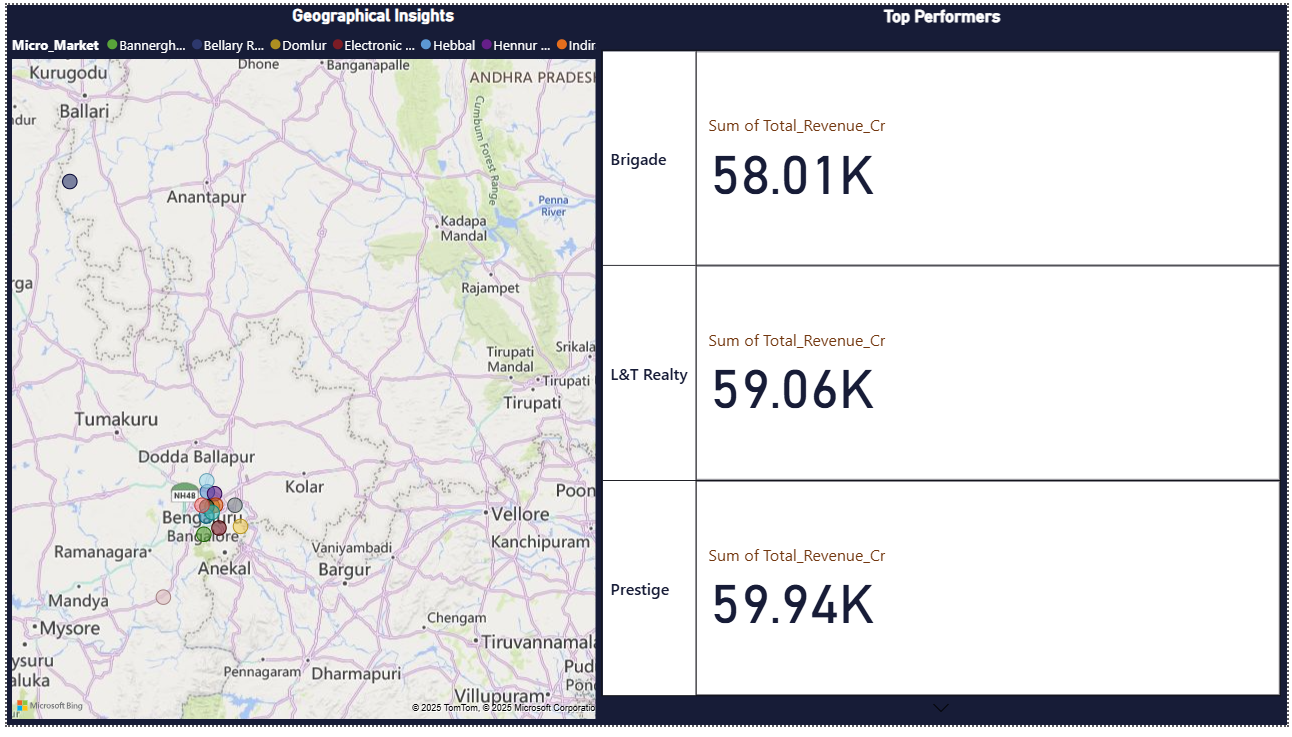

Layout of this report page (visuals, bound fields, positions):
{"tool":"powerbi","page":{"name":"Page 6","canvas":[1280,720],"ordinal":5},"visuals":[{"type":"map","title":"GEOGRAPHICAL INSIGHTS","fields":{"Series":["Query9.Micro_Market"],"Category":["Query9.Micro_Market"],"Size":["Sum(Query9.Successful_Bookings)"]},"box":[2,0,554.2,720.1],"z":0},{"type":"columnChart","title":"TOP PERFORMERS","fields":{"Category":["Query10.Builder"],"Y":["Sum(Query10.Total_Revenue_Cr)"],"Series":["Query10.Booking_Count"]},"box":[556.2,0,724.2,720.1],"z":1000}]}

Visuals, with their boxes in screenshot pixels (x1, y1, x2, y2), scaled from the page's 1280x720 canvas onto the 1292x737 screenshot:
"GEOGRAPHICAL INSIGHTS" map: <bbox>2, 0, 561, 736</bbox>
"TOP PERFORMERS" columnChart: <bbox>561, 0, 1291, 736</bbox>
